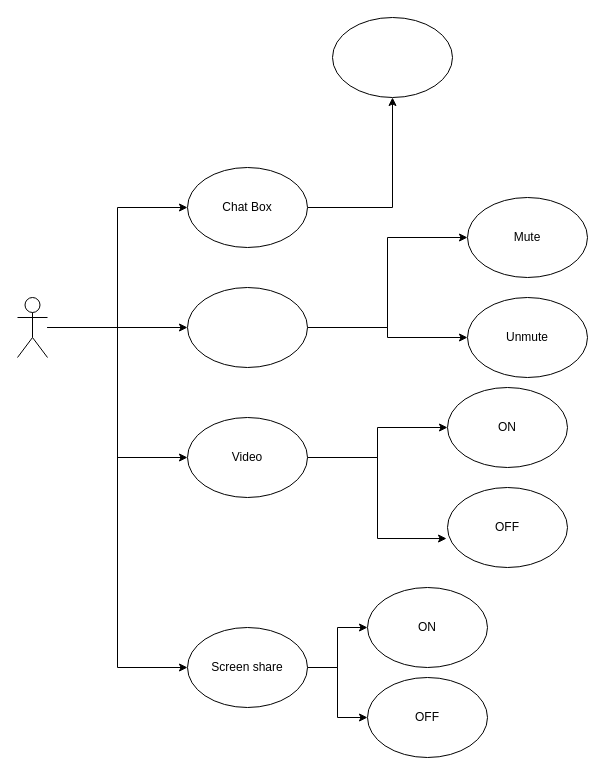
Image size: 605x775. Some labels were removed from this diagram. The shapes that lost their labels are listed below. From the top down, each one's box as (x1, y1, x2, y2) in pixels, then its label:
(332, 16, 452, 98): Send Message
(16, 296, 48, 358): User
(186, 286, 308, 368): Voice
